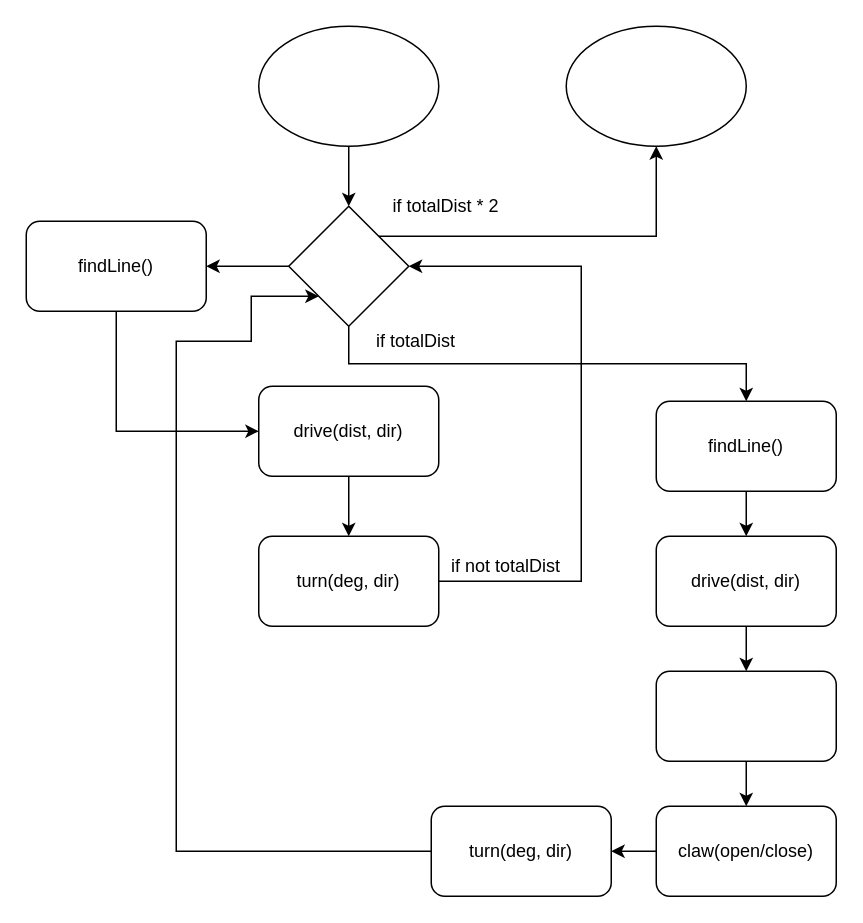
The diagram is 863 pixels wide and 923 high, and some of its shapes have lost their labels. The shapes that lost their labels are listed below. From the top down, each one's box as (x1, y1, x2, y2) in pixels, then its label:
(257, 25, 439, 146): Start
(565, 25, 746, 146): End
(655, 670, 836, 761): moveArm(up/down)
